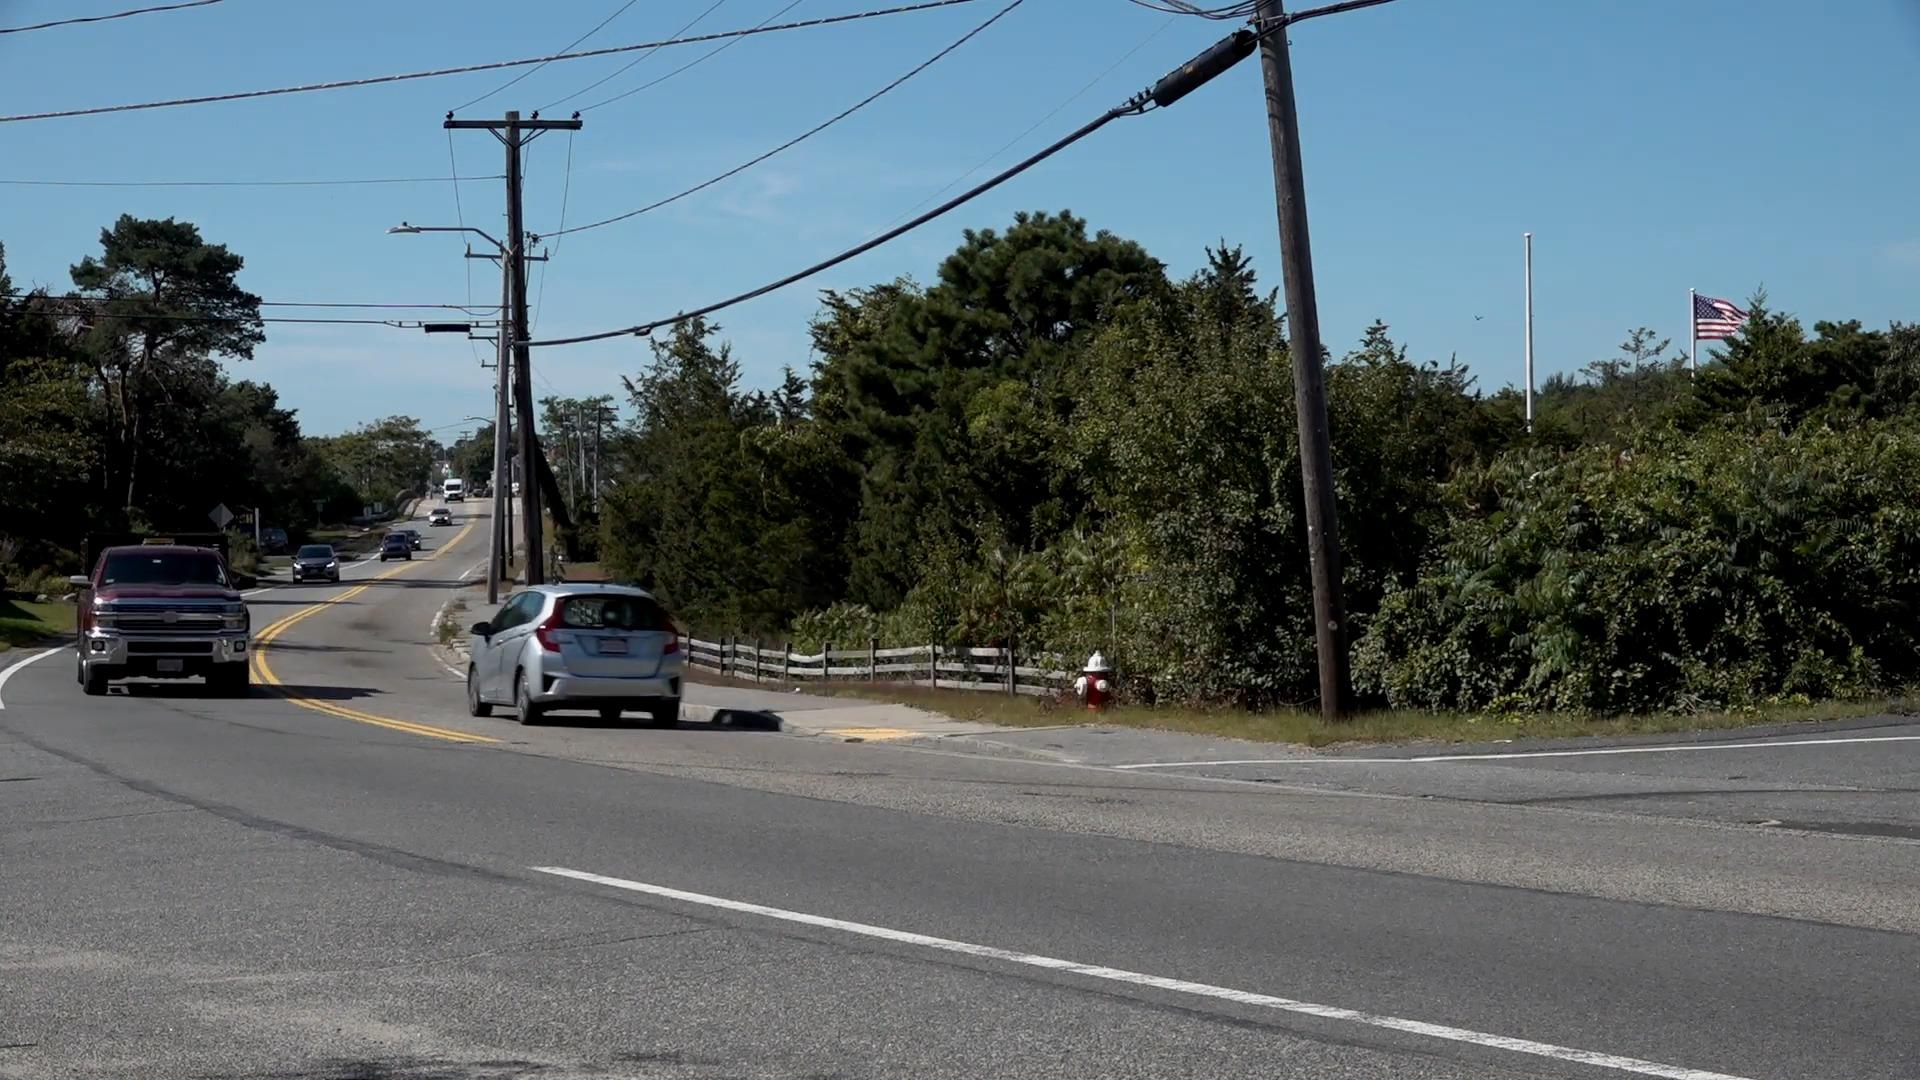pickup: (79, 542, 256, 698)
sedans: (467, 585, 686, 720)
